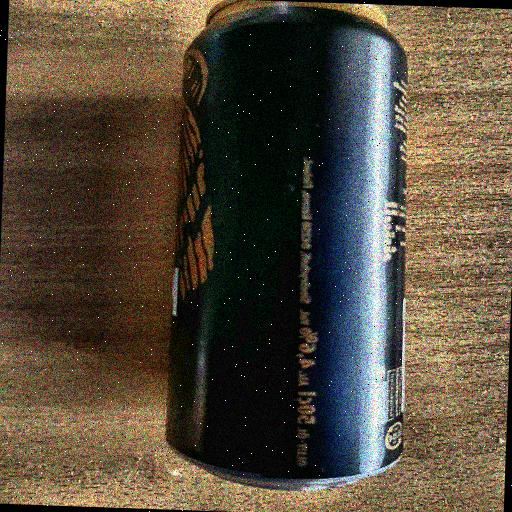karhu: (86, 0, 441, 509)
